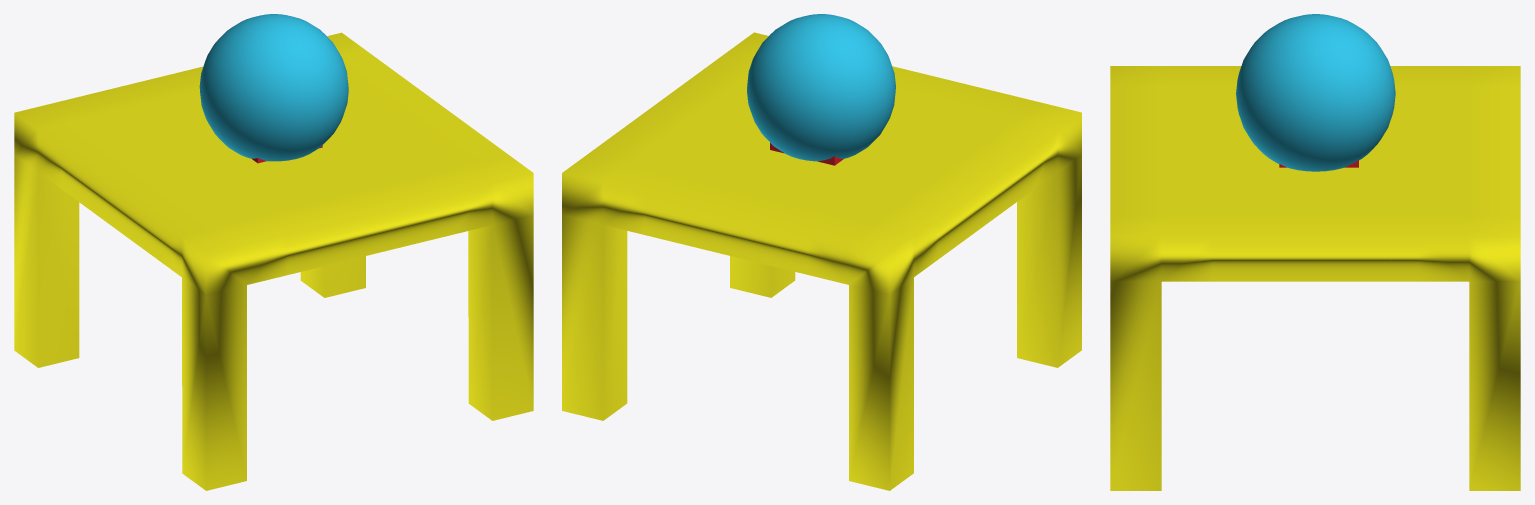
File: table.gltf
The picture shows the model from 3 angles, left to right: view 1: azimuth 30°, elevation 25°; view 2: azimuth 150°, elevation 25°; view 3: azimuth 270°, elevation 25°; orthographic projection. The views are drawn at different scales.
Parts seen in each view (by area): view 1: table, ball; view 2: table, ball; view 3: table, ball.
Boxes of the visible parts, x1=… form: table: x1=14, y1=32, x2=533, y2=490; ball: x1=199, y1=14, x2=348, y2=161; table: x1=562, y1=32, x2=1081, y2=490; ball: x1=747, y1=14, x2=895, y2=161; table: x1=1110, y1=66, x2=1520, y2=490; ball: x1=1236, y1=14, x2=1395, y2=171.
Size of the model in its own units: 2.53 by 2.66 by 2.57.
